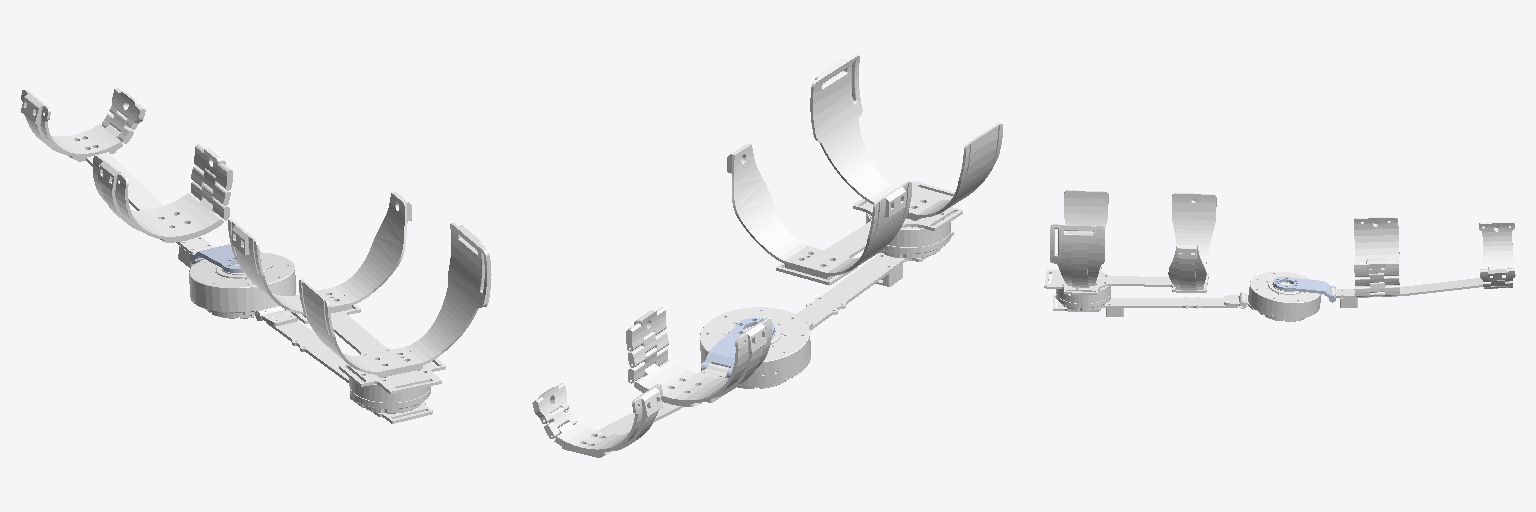
robot.urdf — knee_exo_hinge:
<?xml version='1.0' encoding='utf-8'?>
<robot name="knee_exo_hinge">
  <!-- Removed redundant fixed knee_joint from CAD export; retained revolute knee_joint and all original frames. -->
  <link name="base_link">
    <inertial>
      <origin xyz="0.0090654 -0.23188 0.015986" rpy="0 0 0" />
      <mass value="0.28656" />
      <inertia ixx="0.0004204" ixy="6.2955E-06" ixz="-1.0696E-05" iyy="0.00040802" iyz="2.0927E-06" izz="0.00057961" />
    </inertial>
    <visual>
      <origin xyz="0 0 0" rpy="0 0 0" />
      <geometry>
        <mesh filename="package://knee_exo_hinge/meshes/base_link.STL" />
      </geometry>
      <material name="">
        <color rgba="1 1 1 1" />
      </material>
    </visual>
    <collision>
      <origin xyz="0 0 0" rpy="0 0 0" />
      <geometry>
        <mesh filename="package://knee_exo_hinge/meshes/base_link.STL" />
      </geometry>
    </collision>
  </link>
  <link name="motor_housing_link">
    <inertial>
      <origin xyz="0.015785 -0.053453 -0.0042739" rpy="0 0 0" />
      <mass value="0.06744" />
      <inertia ixx="3.5451E-05" ixy="-3.7084E-07" ixz="4.5148E-07" iyy="3.8313E-05" iyz="-8.0124E-06" izz="6.6839E-05" />
    </inertial>
    <visual>
      <origin xyz="0 0 0" rpy="0 0 0" />
      <geometry>
        <mesh filename="package://knee_exo_hinge/meshes/motor_housing_link.STL" />
      </geometry>
      <material name="">
        <color rgba="1 1 1 1" />
      </material>
    </visual>
    <collision>
      <origin xyz="0 0 0" rpy="0 0 0" />
      <geometry>
        <mesh filename="package://knee_exo_hinge/meshes/motor_housing_link.STL" />
      </geometry>
    </collision>
  </link>
  <joint name="upper_hinge_joint" type="revolute">
    <origin xyz="0.01255 -0.058247 -0.022356" rpy="-0.14944 -0.0092835 3.08" />
    <parent link="base_link" />
    <child link="motor_housing_link" />
    <axis xyz="-0.99806 -0.062234 0" />
    <limit lower="-0.34907" upper="0.34907" effort="0" velocity="0" />
  </joint>
  <link name="motor_output_link">
    <inertial>
      <origin xyz="4.3419E-05 0.030401 -0.0020255" rpy="0 0 0" />
      <mass value="0.02644" />
      <inertia ixx="1.9601E-06" ixy="-1.8976E-08" ixz="1.2601E-08" iyy="3.0726E-06" iyz="4.1719E-07" izz="4.554E-06" />
    </inertial>
    <visual>
      <origin xyz="0 0 0" rpy="0 0 0" />
      <geometry>
        <mesh filename="package://knee_exo_hinge/meshes/motor_output_link.STL" />
      </geometry>
      <material name="">
        <color rgba="0.86667 0.9098 1 1" />
      </material>
    </visual>
    <collision>
      <origin xyz="0 0 0" rpy="0 0 0" />
      <geometry>
        <mesh filename="package://knee_exo_hinge/meshes/motor_output_link.STL" />
      </geometry>
    </collision>
  </link>
  <joint name="knee_joint" type="revolute">
    <origin xyz="0.016318 -0.060031 0.013417" rpy="-0.14973 0 -3.0793" />
    <parent link="motor_housing_link" />
    <child link="motor_output_link" />
    <axis xyz="0 0.10771 0.99418" />
    <limit lower="0" upper="1.9199" effort="20" velocity="20" />
  </joint>
  <link name="shank_link">
    <inertial>
      <origin xyz="0.028731 -0.11554 0.005662" rpy="0 0 0" />
      <mass value="0.17064" />
      <inertia ixx="0.00032495" ixy="1.7018E-05" ixz="-4.2914E-05" iyy="0.00013146" iyz="-1.7562E-05" izz="0.00038154" />
    </inertial>
    <visual>
      <origin xyz="0 0 0" rpy="0 0 0" />
      <geometry>
        <mesh filename="package://knee_exo_hinge/meshes/shank_link.STL" />
      </geometry>
      <material name="">
        <color rgba="1 1 1 1" />
      </material>
    </visual>
    <collision>
      <origin xyz="0 0 0" rpy="0 0 0" />
      <geometry>
        <mesh filename="package://knee_exo_hinge/meshes/shank_link.STL" />
      </geometry>
    </collision>
  </link>
  <joint name="lower_hinge_joint" type="revolute">
    <origin xyz="0.0165 0.06218 -0.012772" rpy="-0.14944 -0.0092835 3.08" />
    <parent link="motor_output_link" />
    <child link="shank_link" />
    <axis xyz="-0.99806 -0.062234 0" />
    <limit lower="-0.34907" upper="0.34907" effort="0" velocity="0" />
  </joint>
</robot>

--- What the picture shows (computed from the rendered views, not written in the file) ---
Views: 3 orthographic renders of the robot side by side, from view 1: azimuth 30°, elevation 25°; view 2: azimuth 150°, elevation 25°; view 3: azimuth 270°, elevation 25°.
Model knee_exo_hinge with 4 links and 3 joints (3 revolute), rooted at base_link, posed every joint at zero.
Links seen in each view (by area): view 1: base_link, shank_link, motor_housing_link, motor_output_link; view 2: base_link, shank_link, motor_housing_link, motor_output_link; view 3: base_link, shank_link, motor_housing_link, motor_output_link.
Link boxes in pixels (bbox=[...]): base_link: bbox=[228, 192, 491, 423]; shank_link: bbox=[21, 88, 232, 268]; motor_housing_link: bbox=[189, 252, 295, 318]; motor_output_link: bbox=[190, 244, 243, 272]; base_link: bbox=[727, 54, 1002, 330]; shank_link: bbox=[532, 307, 771, 457]; motor_housing_link: bbox=[700, 307, 810, 388]; motor_output_link: bbox=[701, 318, 774, 377]; base_link: bbox=[1044, 190, 1246, 316]; shank_link: bbox=[1330, 217, 1515, 307]; motor_housing_link: bbox=[1239, 272, 1321, 321]; motor_output_link: bbox=[1273, 277, 1335, 302].
Size in the robot's own frame: 0.18 by 0.6356 by 0.1689 metres.
Meshes: 4 distinct files referenced, 4 mesh visuals loaded (4 binary STL).
